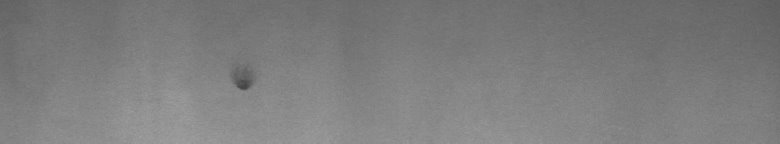fi: (231, 73, 256, 97)
